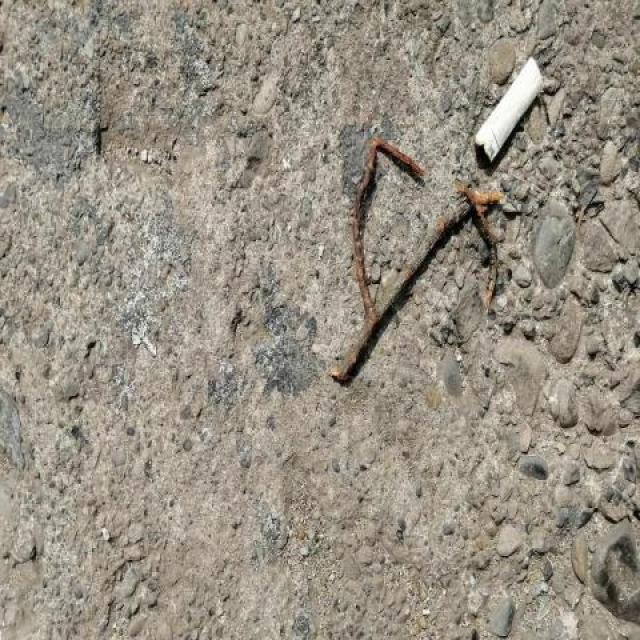non-organic waste: (469, 54, 547, 170)
